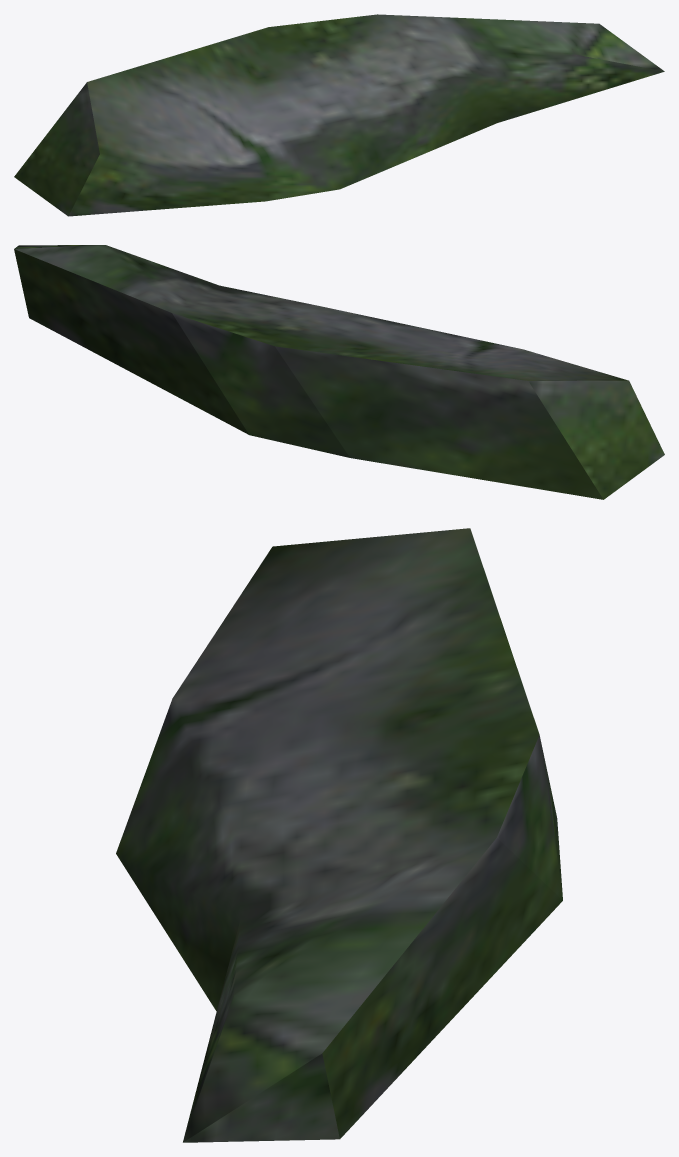
File: 7004_Item_wujian_3.FBX
The picture shows the model from 3 angles, top to bottom: view 1: azimuth 30°, elevation 25°; view 2: azimuth 150°, elevation 25°; view 3: azimuth 270°, elevation 25°; orthographic projection. The views are drawn at different scales.
Visible parts, largest first — view 1: 7004_Item_wujian_3; view 2: 7004_Item_wujian_3; view 3: 7004_Item_wujian_3.
Part boxes in pixels (x1,y1,x2,y2): 7004_Item_wujian_3: (14, 14, 664, 216); 7004_Item_wujian_3: (14, 245, 664, 499); 7004_Item_wujian_3: (116, 528, 562, 1142).
Bounding box in the file's own units: 138 × 46.66 × 19.17.
Materials: 1 (1 with a texture image).
